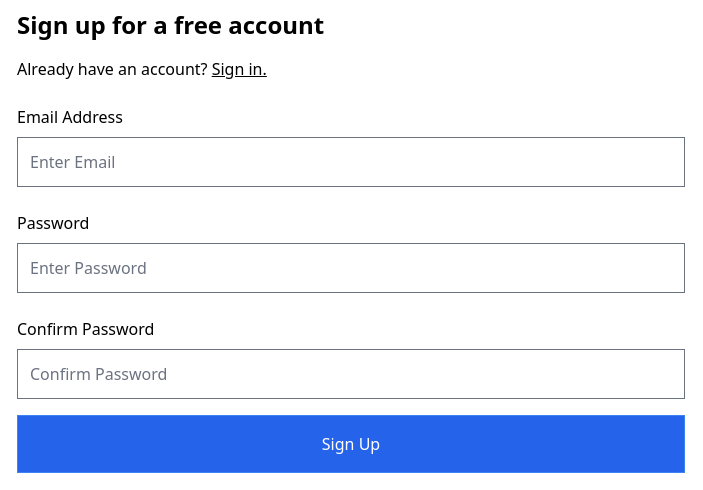
Test case: Should allow user to input their password
The image size is (703, 490).
Click the password field with placeholder "Enter Password".
click(351, 268)  # box [17,243,685,293]
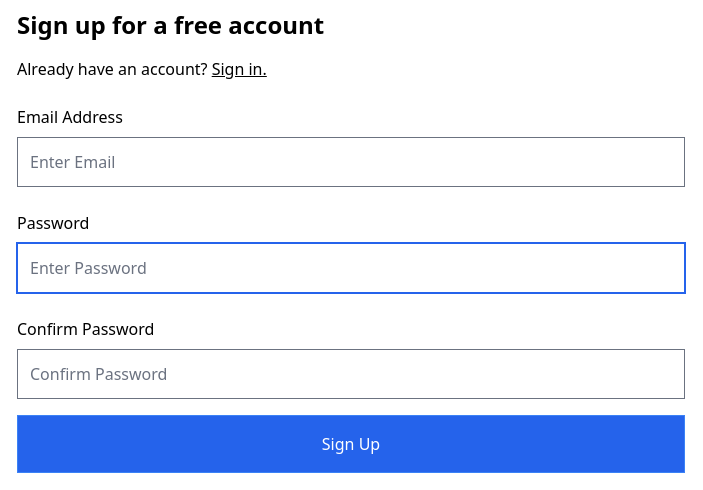
Type keys "Testing password"
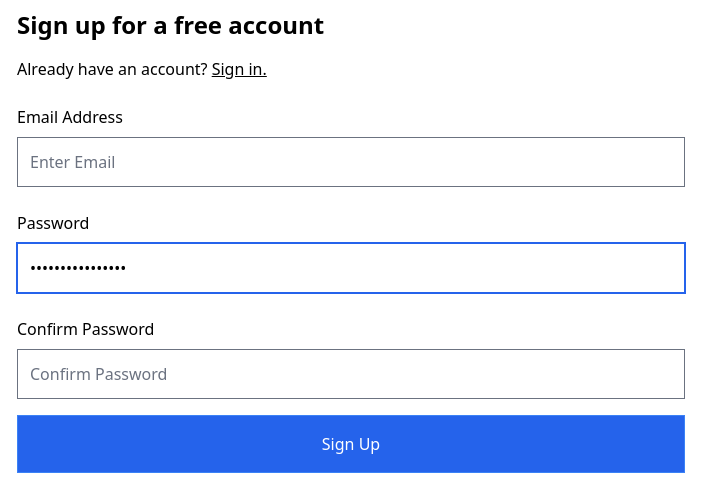
Now the password field with placeholder "Enter Password" holds "Testing password", box [17,243,685,293]
